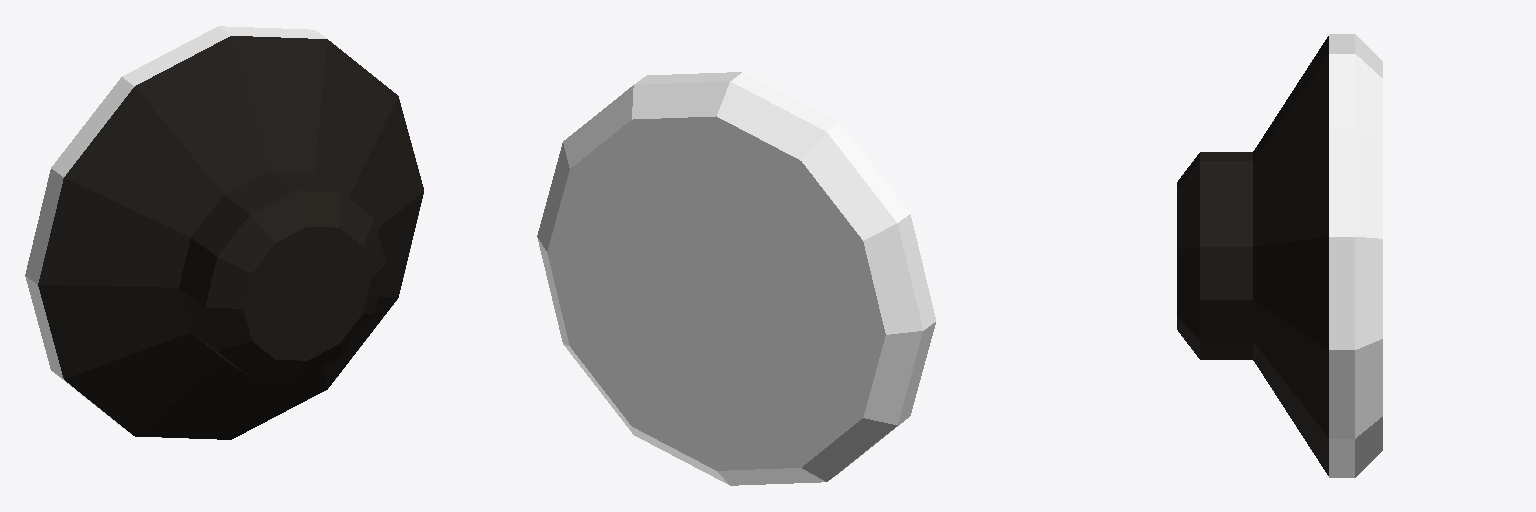
Rendered from Light.obj.
3 renders of one model, left to right at view 1: azimuth 30°, elevation 25°; view 2: azimuth 150°, elevation 25°; view 3: azimuth 270°, elevation 25°, orthographic.
Parts seen in each view (by area): view 1: Screw1, Light1; view 2: Light1; view 3: Screw1, Light1.
Part boxes in pixels (x1,y1,x2,y2): Screw1: (38, 36, 423, 439); Light1: (25, 26, 423, 439); Light1: (537, 72, 935, 485); Screw1: (1177, 36, 1328, 475); Light1: (1329, 34, 1382, 477).
Size of the model in its own units: 0.9626 by 0.9626 by 0.4444.